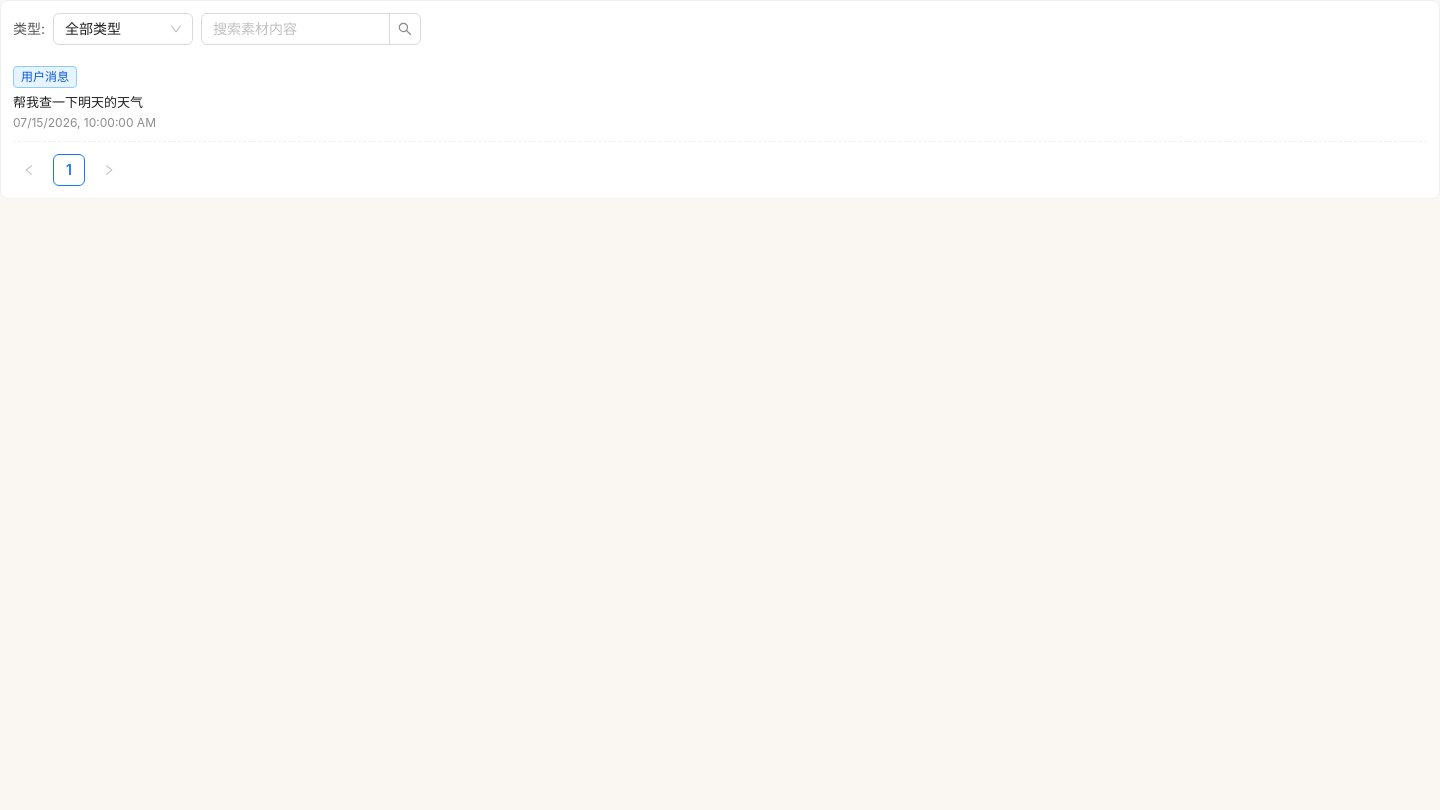
<RawEventsList /> › opens the detail drawer with full content on row click
Click the text "帮我查一下明天的天气" at (78, 102), box [13,94,143,110]
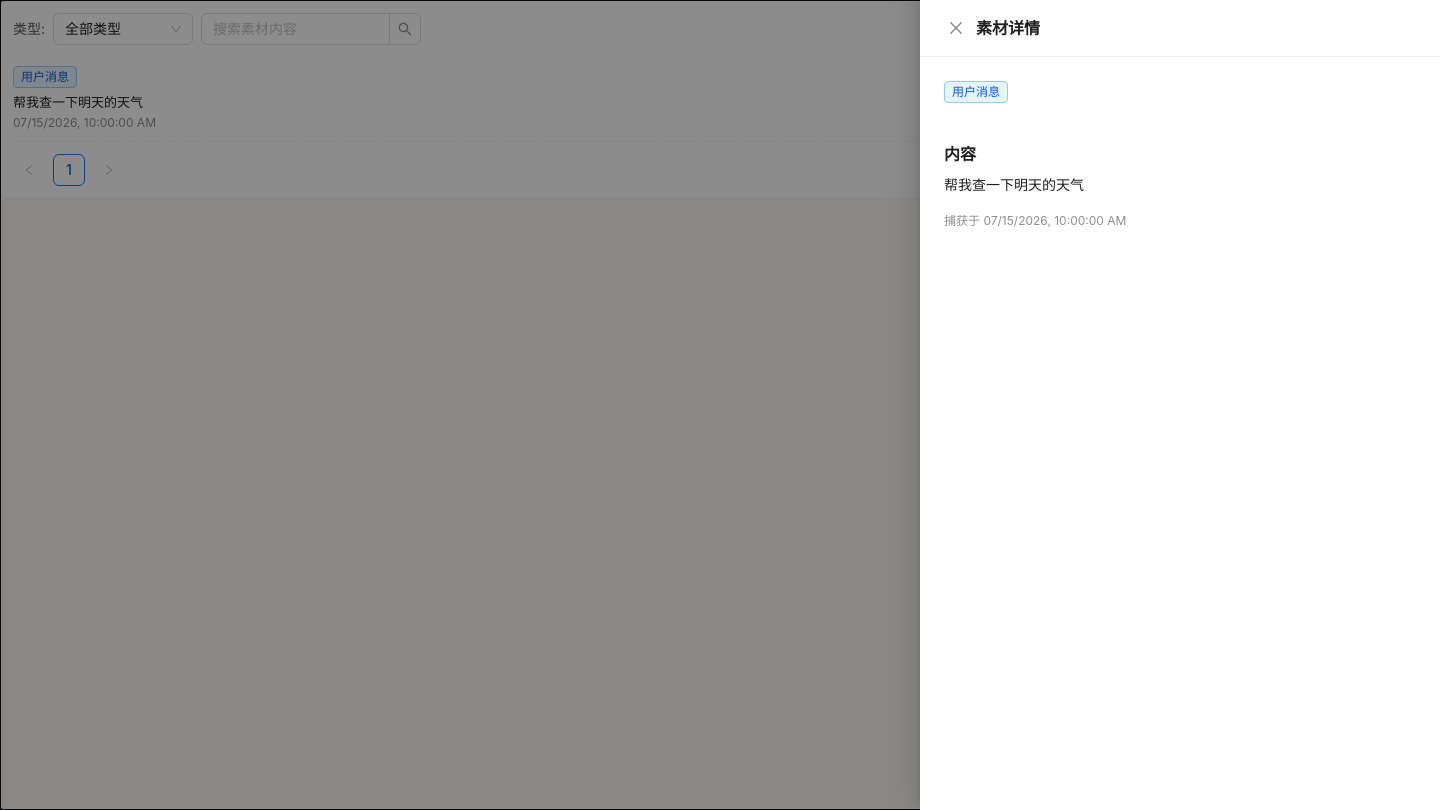
expect the heading "内容" is shown: met, box [944,144,976,164]
